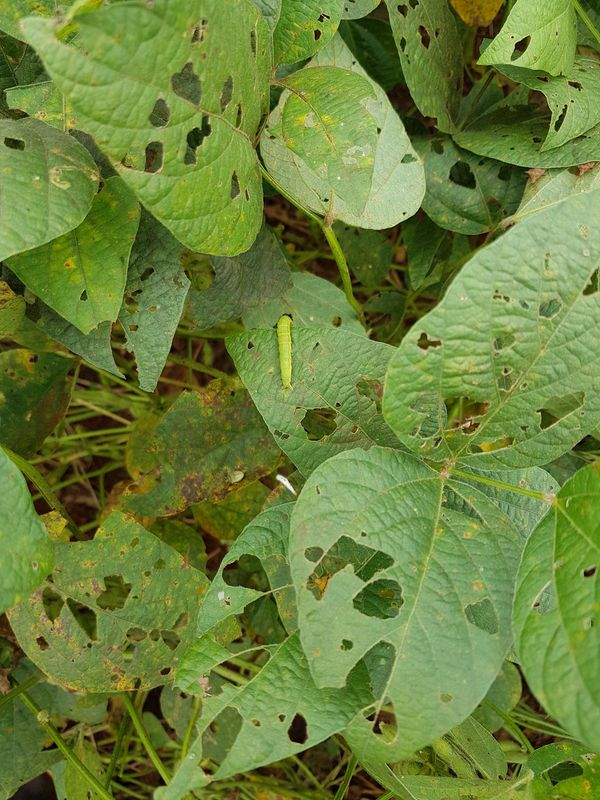Anticarsia_gemmatalis: (260, 309, 315, 395)
Euschistus_heros_adulto: (522, 163, 551, 187), (571, 156, 598, 179)
Euschistus_heros_ninfa: (297, 564, 340, 602), (219, 465, 247, 490), (31, 706, 56, 729)
